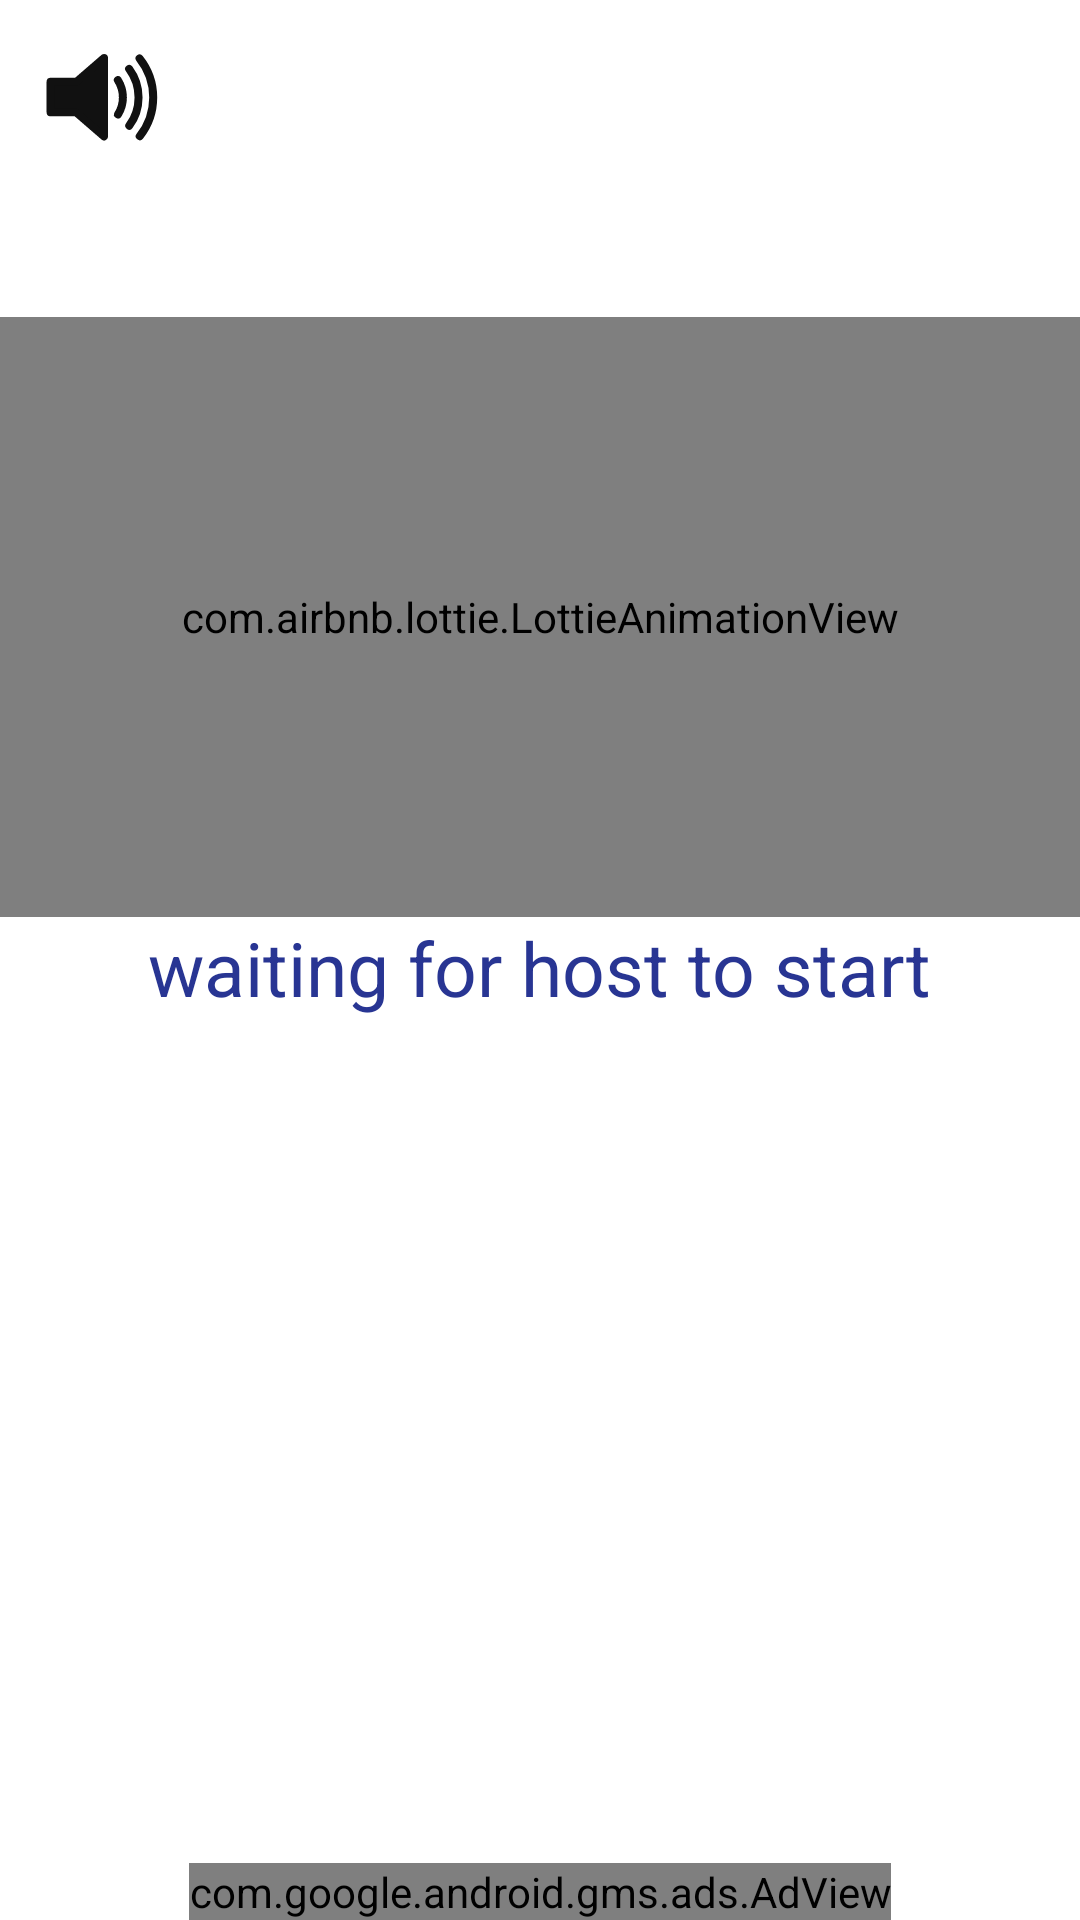

Screen size 1080x1920. Icon name, then its center in pixels as [x,y]:
speaker: [102,97]
